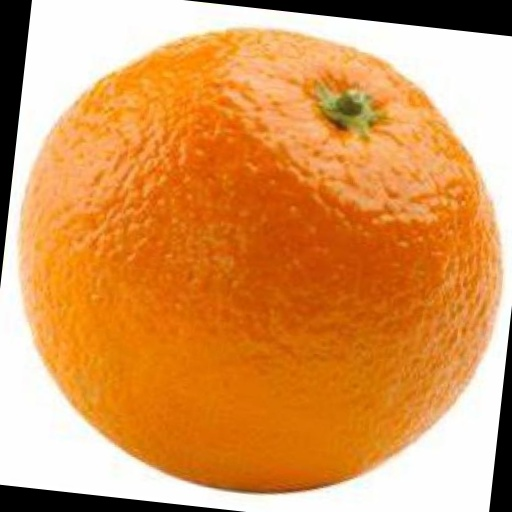fruit: (20, 30, 500, 491)
